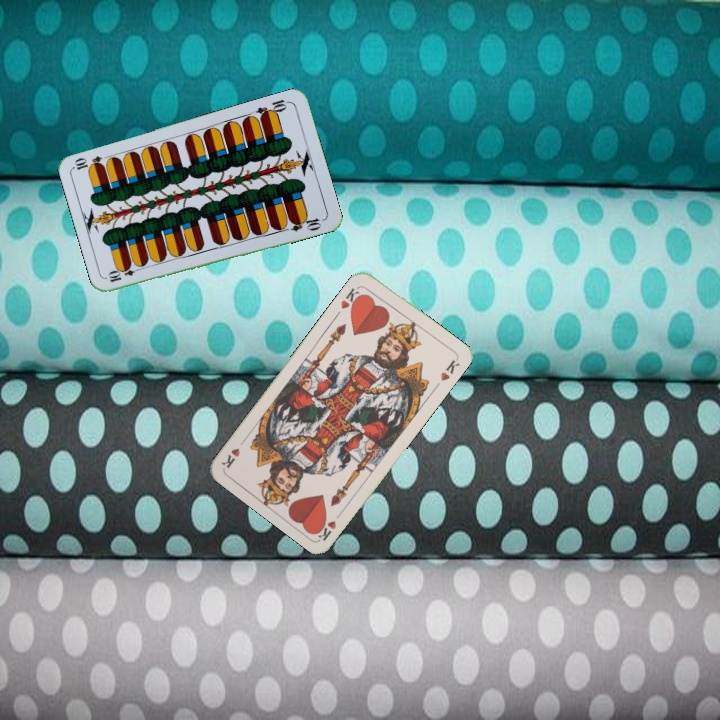E10: (252, 95, 292, 122), (104, 262, 144, 285)
HK: (313, 506, 346, 543), (337, 282, 365, 313)
